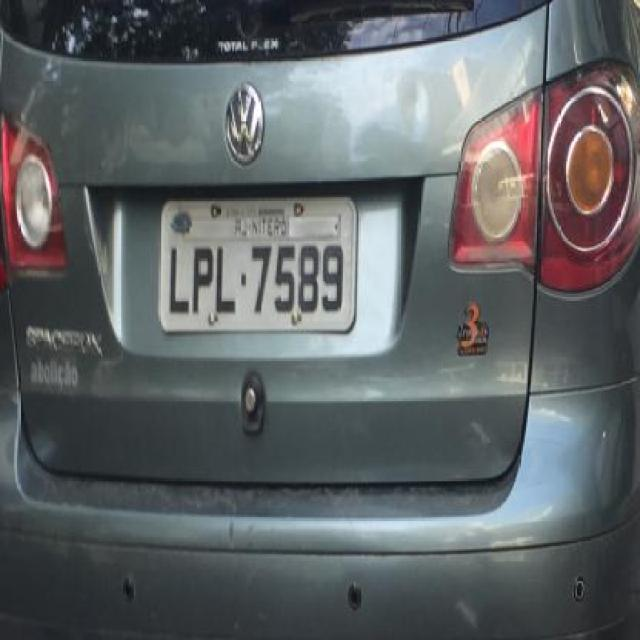old_plate: (153, 188, 365, 340)
